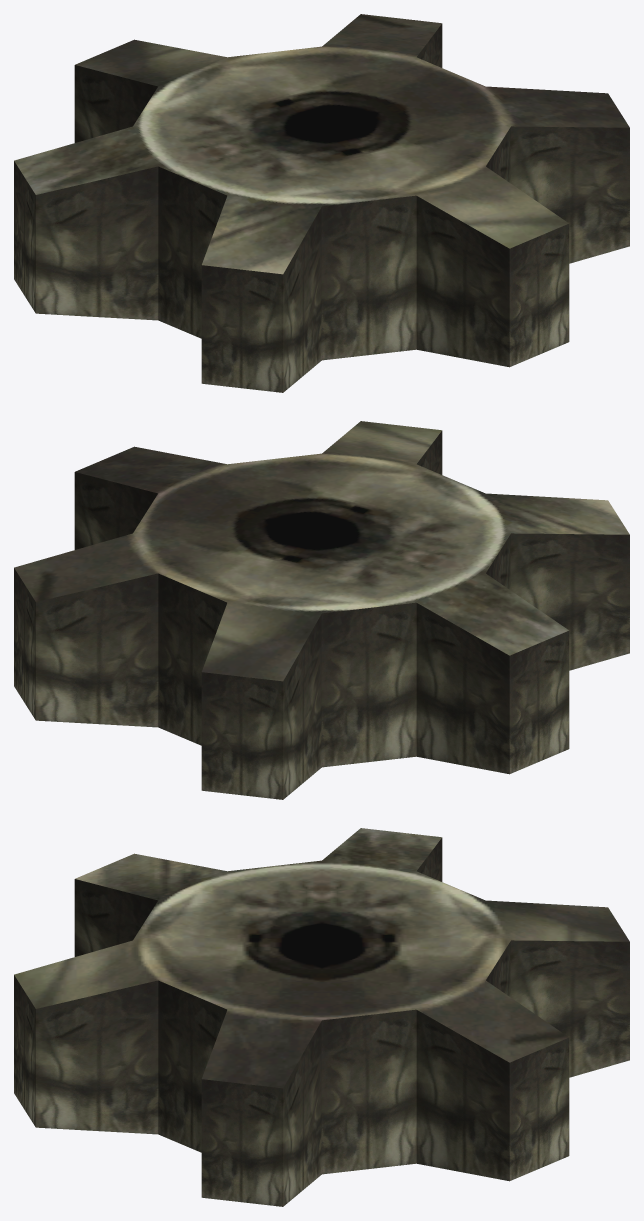
The model's file is ruinedsteamtankgear01.obj.
3 renders of one model, top to bottom at view 1: azimuth 30°, elevation 25°; view 2: azimuth 150°, elevation 25°; view 3: azimuth 270°, elevation 25°, orthographic.
Visible parts, largest first — view 1: ruinedsteamtankgear01; view 2: ruinedsteamtankgear01; view 3: ruinedsteamtankgear01.
Boxes of the visible parts, bbox=[...] form: ruinedsteamtankgear01: bbox=[14, 14, 629, 392]; ruinedsteamtankgear01: bbox=[14, 421, 629, 799]; ruinedsteamtankgear01: bbox=[14, 828, 629, 1206].
Bounding box in the file's own units: 2.07 × 0.5726 × 2.07.
1 material, 1 textured.
